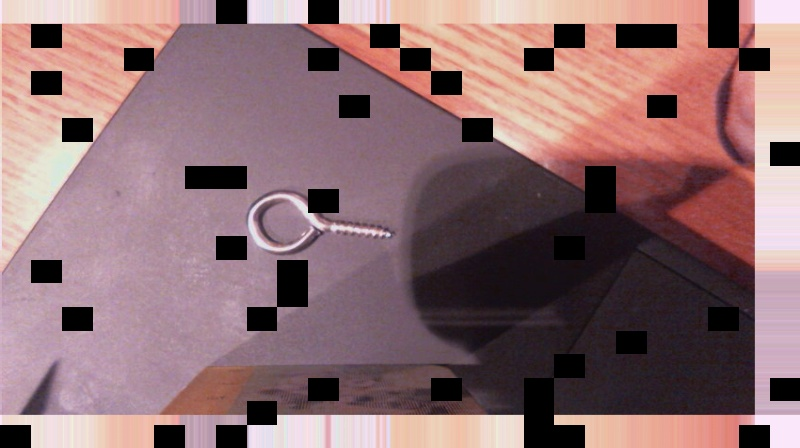O001: (243, 185, 396, 260)
